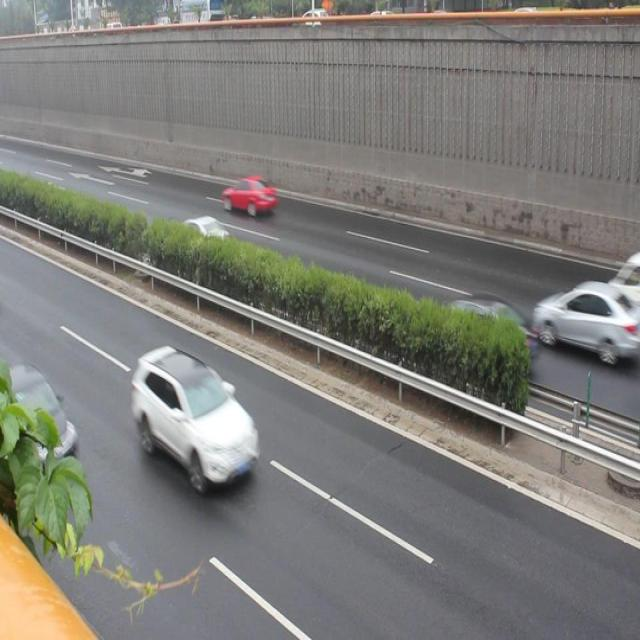car: (132, 346, 272, 487), (0, 365, 84, 484), (432, 283, 536, 372), (531, 278, 627, 360), (175, 210, 230, 262), (222, 174, 278, 224)
